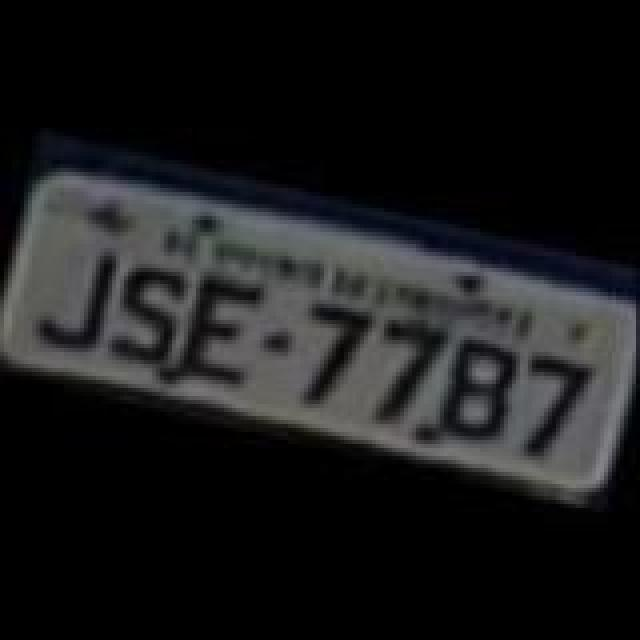7: (284, 290, 380, 414), (502, 342, 594, 466), (358, 314, 450, 438)
8: (428, 326, 524, 446)
E: (172, 266, 272, 390)
J: (22, 234, 118, 358)
S: (96, 252, 188, 368)
